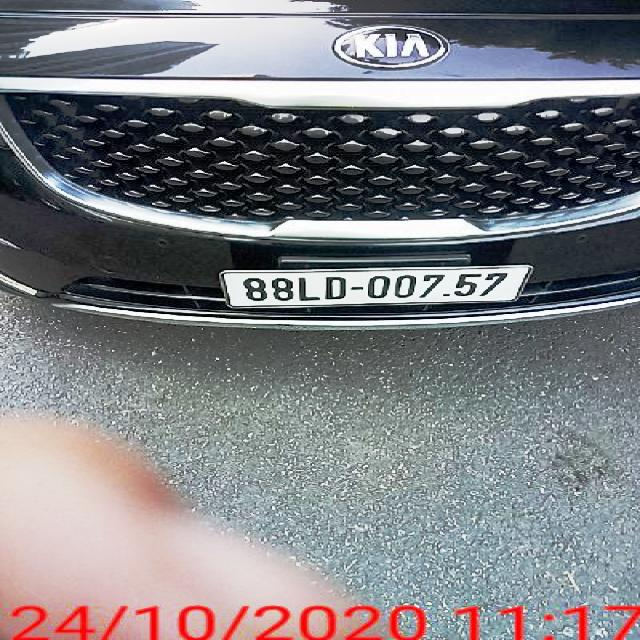license_plate: (219, 269, 531, 309)
